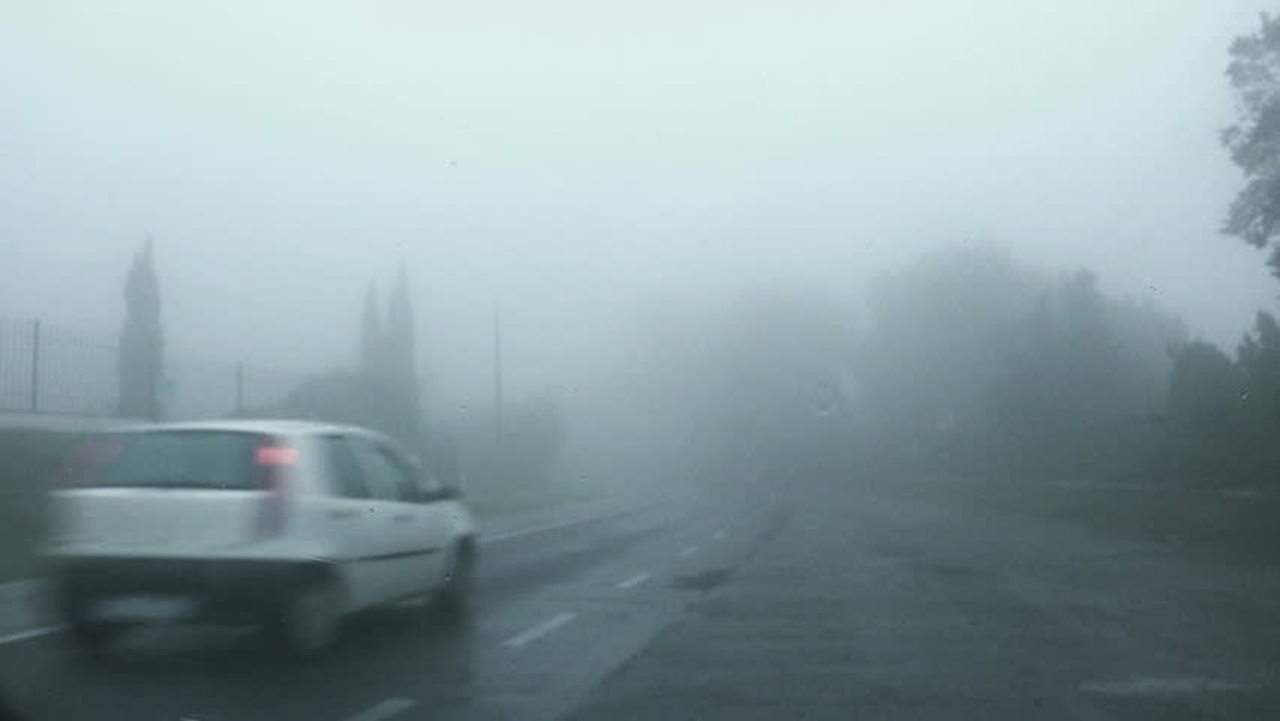car: (24, 417, 479, 667)
